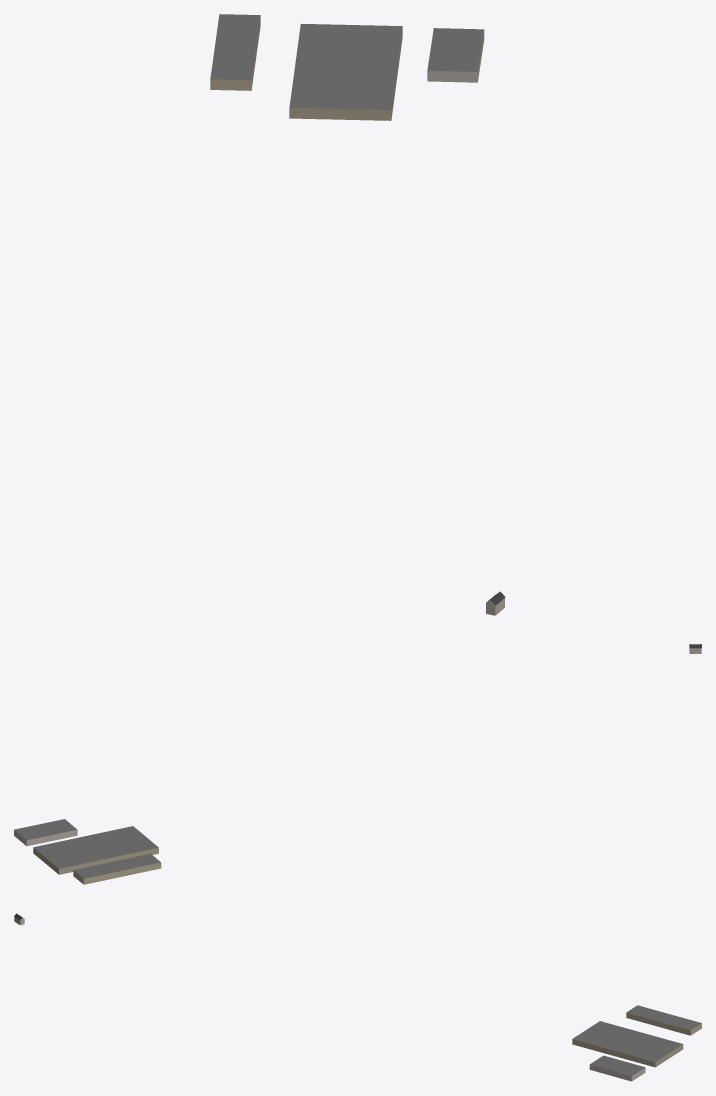
The picture shows the model from 3 angles, top to bottom: view 1: azimuth 30°, elevation 25°; view 2: azimuth 150°, elevation 25°; view 3: azimuth 270°, elevation 25°; orthographic projection. The views are drawn at different scales.
Visible parts, largest first — view 1: buildings; view 2: buildings; view 3: buildings.
Boxes of the visible parts, x1,y1,x2,y2 form: buildings: (210,14,505,615); buildings: (14,644,701,884); buildings: (14,913,701,1081).
Size of the model in its own units: 358 by 21.93 by 697.
